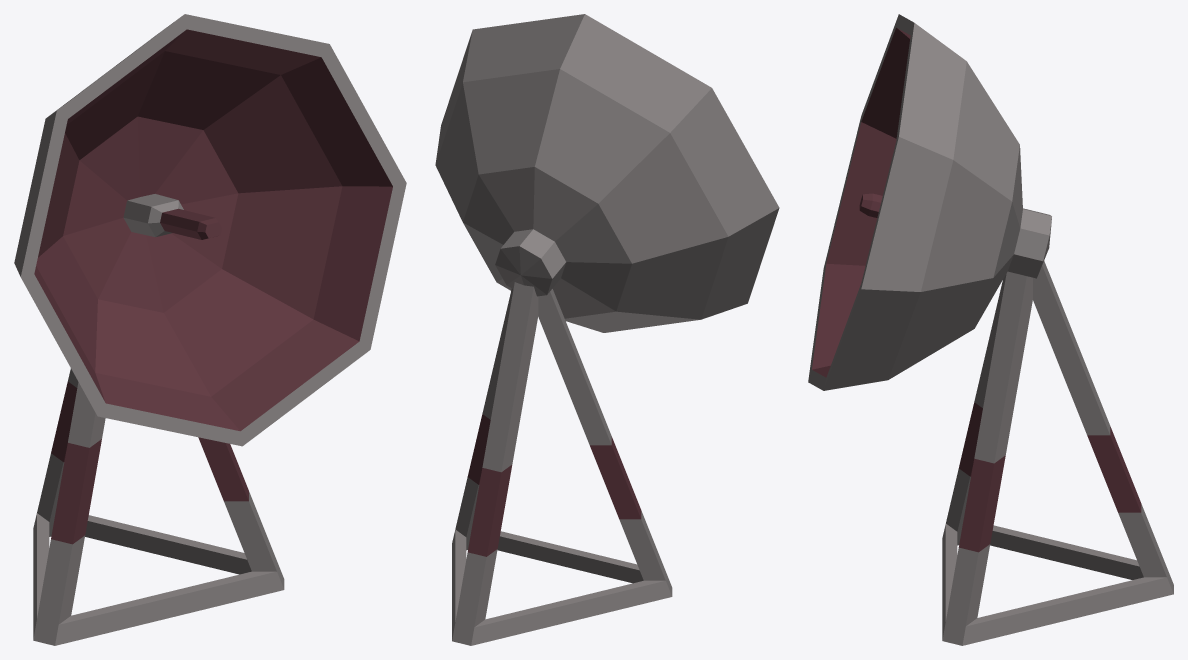
File: scifi-scifi-satelit-stand-small.glb
3 views of the same model, side by side, from view 1: azimuth 30°, elevation 25°; view 2: azimuth 150°, elevation 25°; view 3: azimuth 270°, elevation 25° (orthographic). The views are drawn at different scales.
Visible parts, largest first — view 1: scifi-satelit-stand-small; view 2: scifi-satelit-stand-small; view 3: scifi-satelit-stand-small.
Part boxes in pixels (bbox=[...]): scifi-satelit-stand-small: bbox=[14, 14, 406, 645]; scifi-satelit-stand-small: bbox=[435, 14, 779, 645]; scifi-satelit-stand-small: bbox=[808, 14, 1173, 645].
Bounding box in the file's own units: 1.6 × 2.44 × 1.42.
